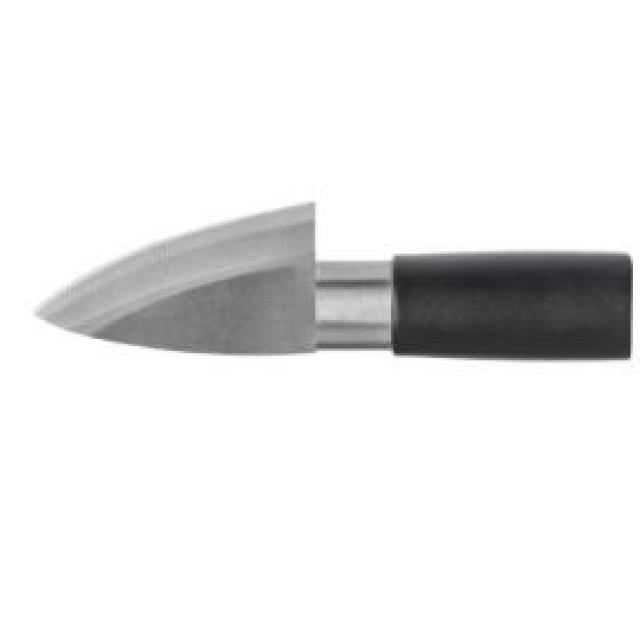knife: (30, 204, 638, 367)
